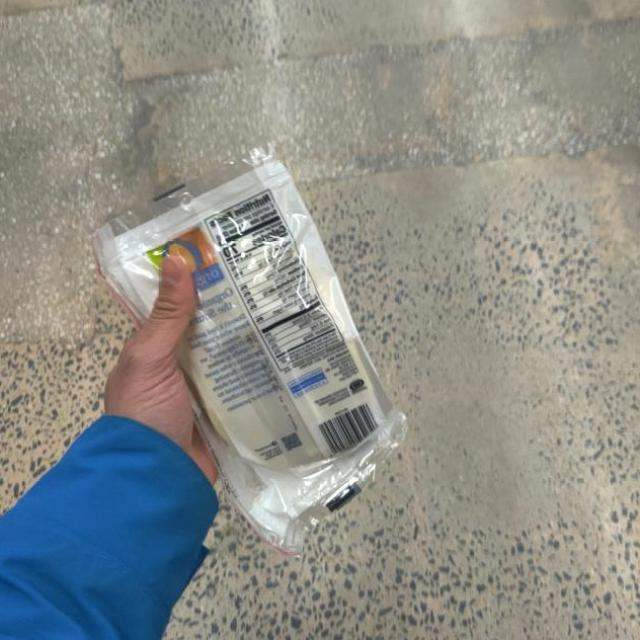Cheese: (87, 150, 399, 541)
